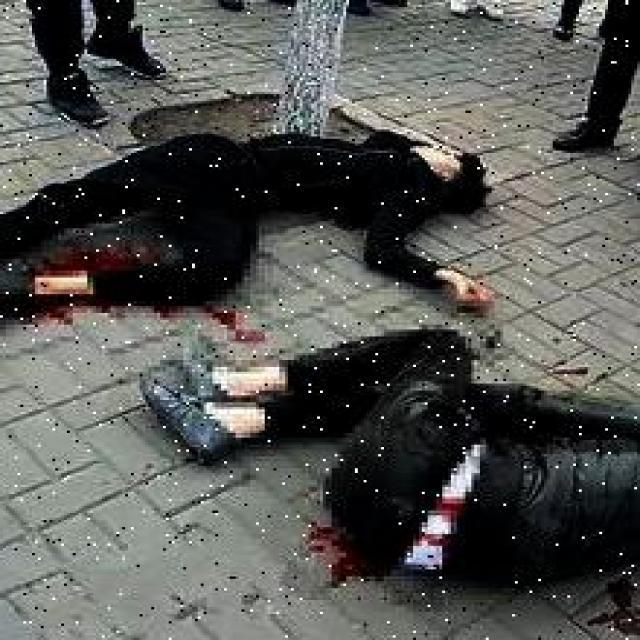fall: (3, 132, 486, 318)
